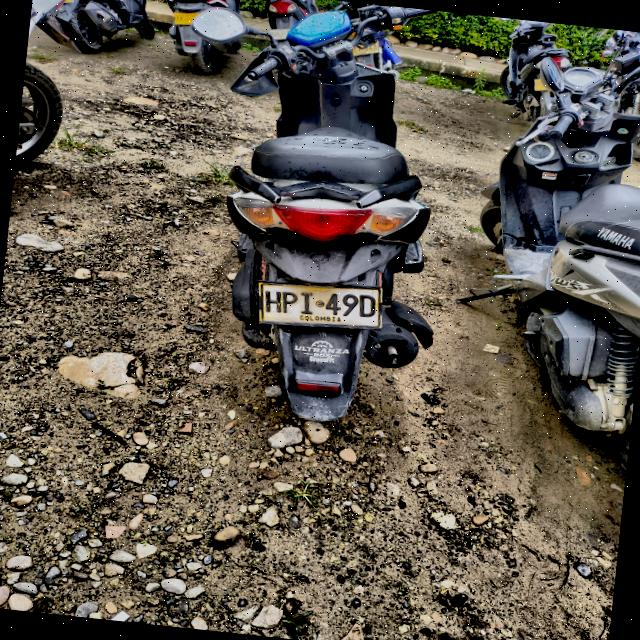plate: (258, 280, 381, 327)
